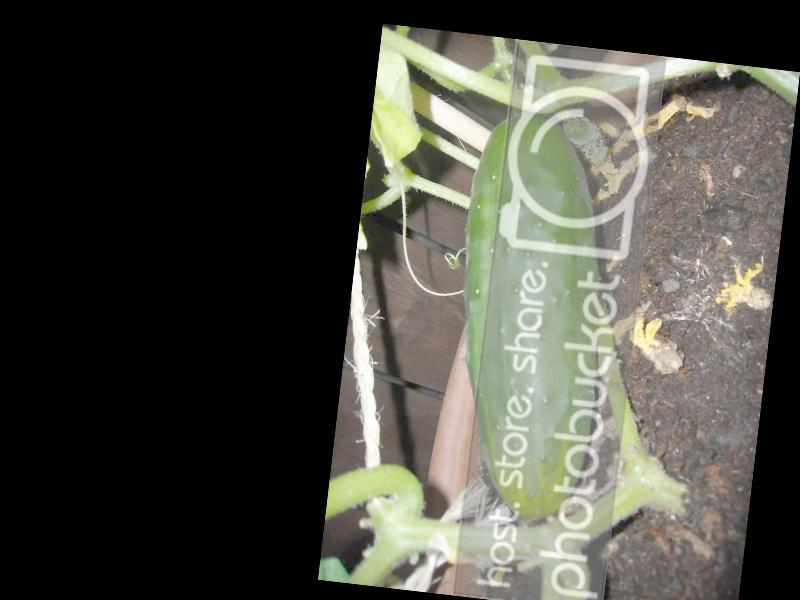Cucumber: (435, 110, 628, 524)
